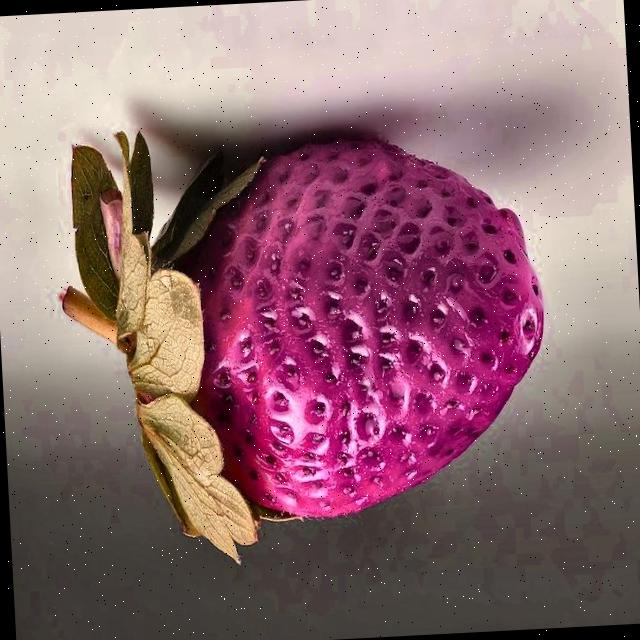strawberry: (61, 133, 543, 560)
